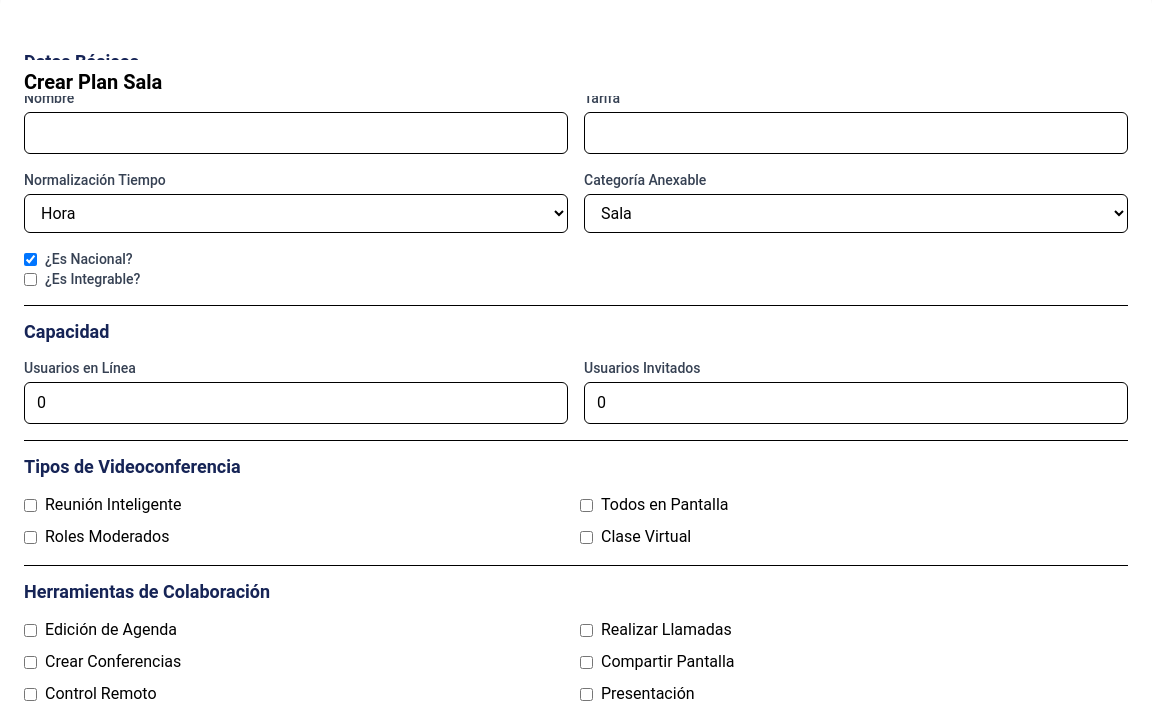
Test: PlanSalaForm › debe mostrar error con nombre muy corto
Expected: the heading "Crear Plan Sala" is shown, [24,60,1128,96]
Step 1. Type "ab" into the field → (296,133), box [24,112,568,154]
(page scrolled)
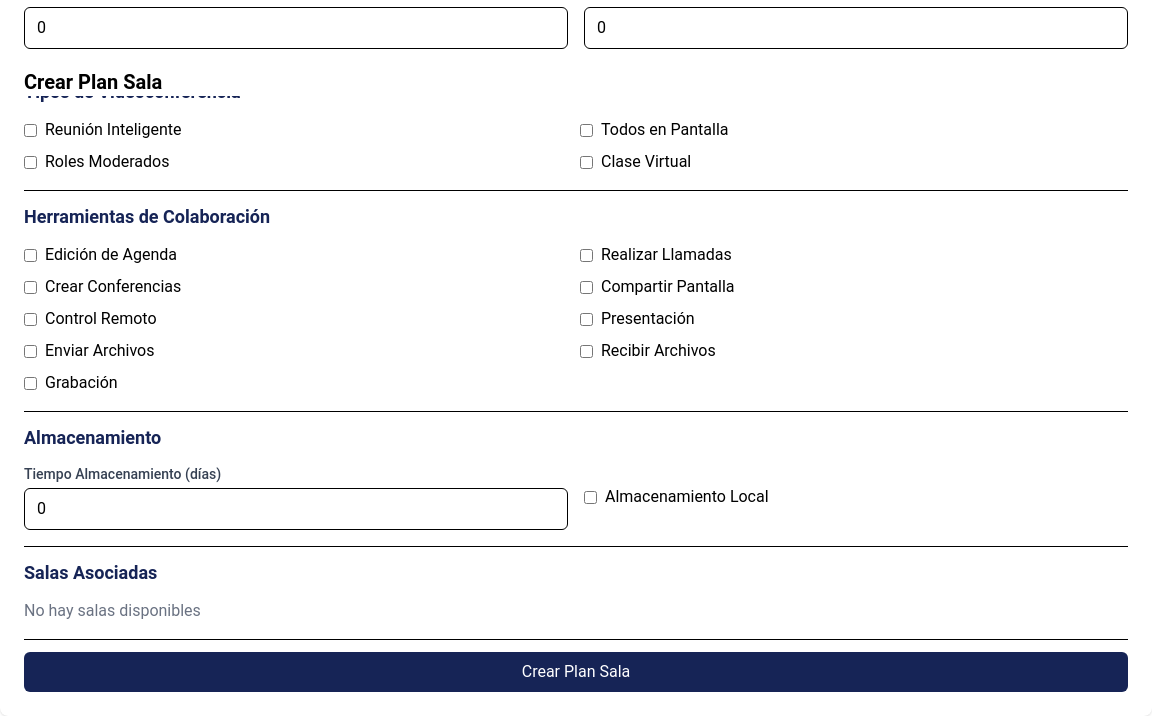
Step 2. Click the button "Crear Plan Sala" → (576,672), box [24,652,1128,692]
(page scrolled)
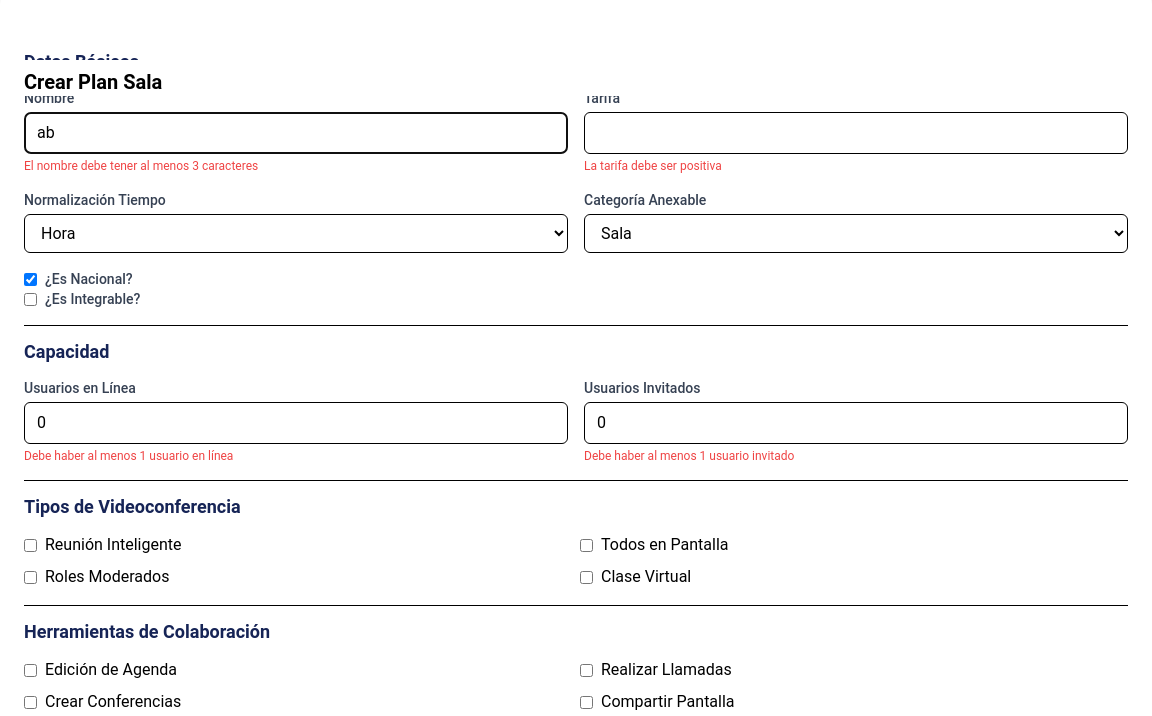
Now the text "El nombre debe tener al menos 3 caracteres" is shown, box [24,159,258,173]
